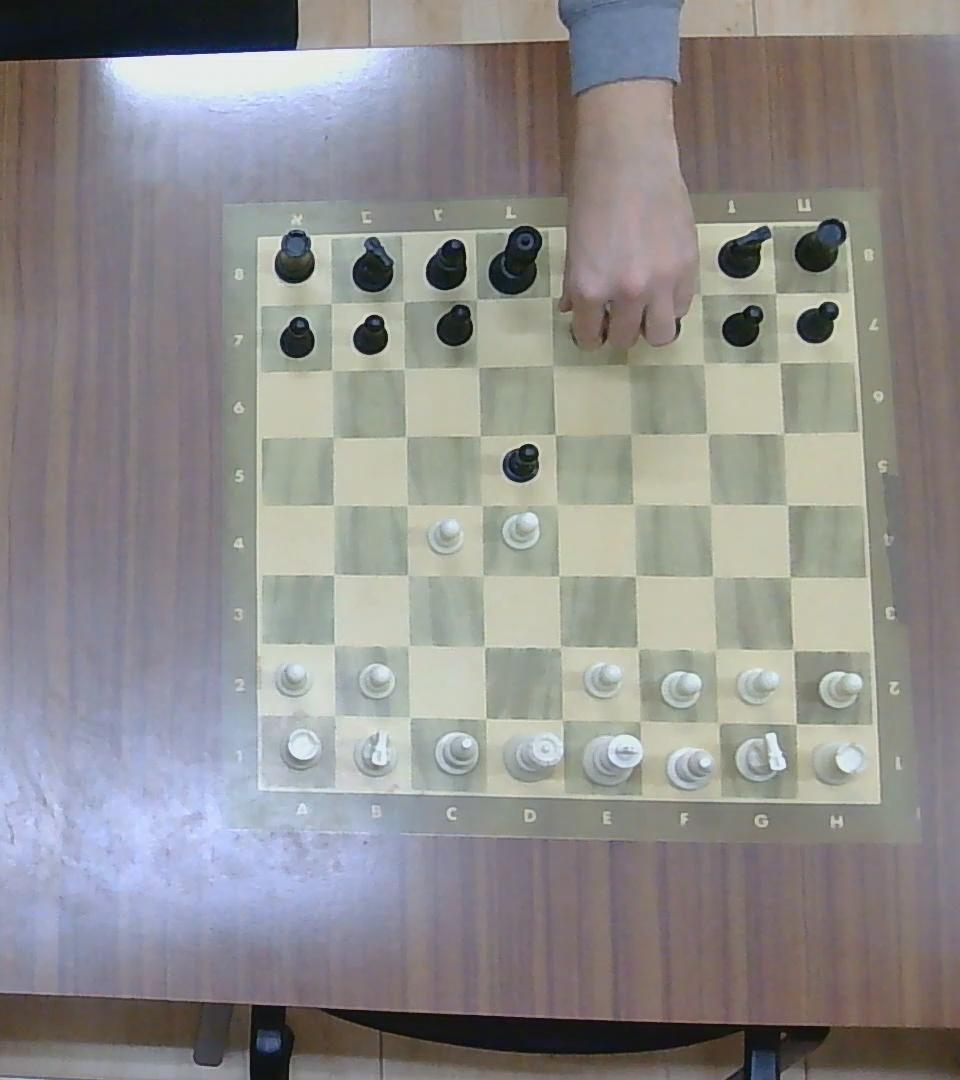xcorner: (777, 705, 811, 739), (622, 702, 656, 735), (701, 705, 734, 738), (620, 631, 653, 664), (545, 702, 578, 734), (543, 630, 575, 662), (393, 699, 424, 731), (469, 701, 500, 733), (319, 699, 350, 731), (774, 561, 805, 592), (697, 561, 728, 592), (698, 634, 730, 664), (776, 634, 808, 664), (393, 630, 423, 661), (468, 631, 499, 661), (318, 629, 349, 659), (620, 560, 650, 590), (543, 560, 573, 590), (467, 560, 496, 590), (393, 560, 422, 590), (319, 558, 348, 588), (619, 488, 649, 517), (535, 282, 565, 311), (604, 280, 633, 310), (466, 488, 495, 517), (695, 488, 724, 517), (460, 284, 489, 313), (543, 488, 572, 517), (319, 488, 348, 517), (772, 488, 801, 517), (463, 351, 491, 380), (616, 419, 645, 447), (542, 419, 570, 448), (693, 419, 722, 447), (317, 421, 345, 449), (316, 288, 345, 315), (769, 418, 798, 445), (393, 489, 421, 516), (317, 354, 345, 381), (389, 286, 416, 313), (616, 348, 641, 377), (688, 280, 714, 307), (761, 279, 789, 304), (392, 422, 418, 448), (540, 351, 566, 377), (390, 355, 415, 380), (466, 421, 491, 446), (690, 350, 715, 375), (766, 348, 791, 373)
